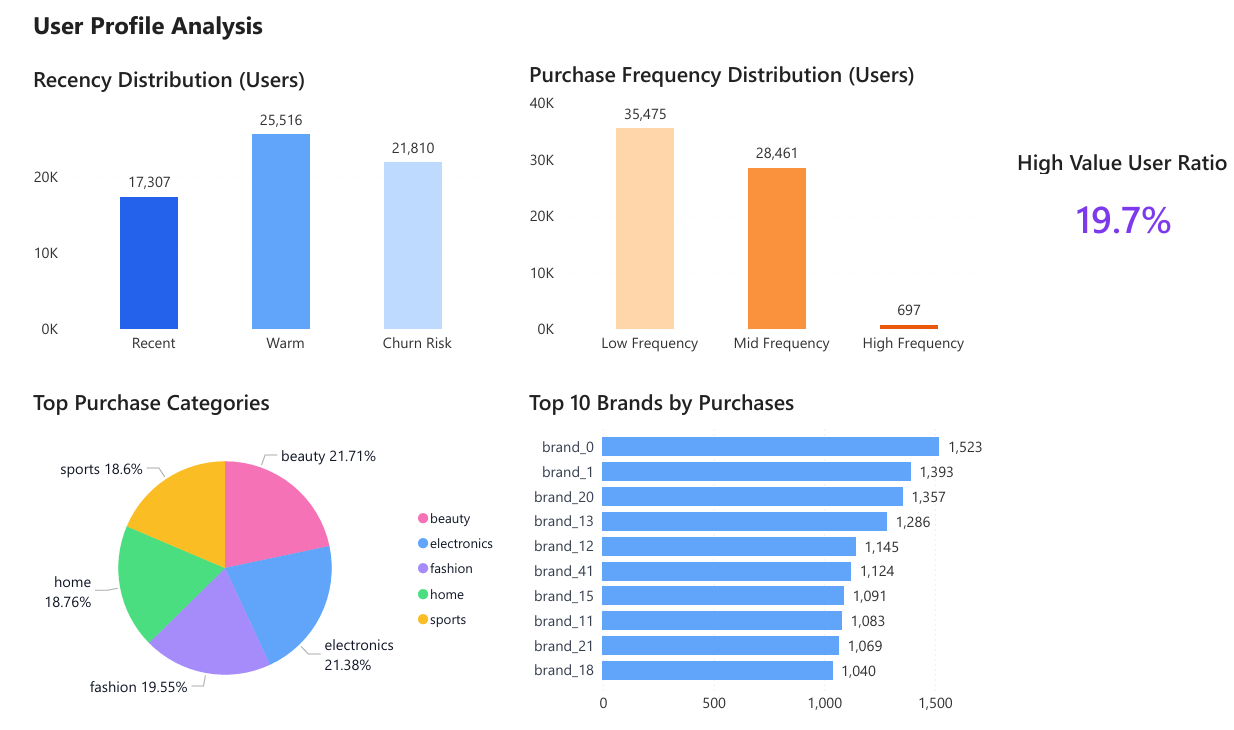

The page's visual inventory and layout, read from the dashboard file:
{"tool":"powerbi","page":{"name":"User Profile Analysis","canvas":[1280,720],"ordinal":3},"visuals":[{"type":"clusteredColumnChart","title":"Recency Distribution (Users)","fields":{"Y":["CountNonNull(gold_user_rfm_segment.user_id)"],"Category":["dim_recency.recency_segment"]},"box":[72,56,480,304],"z":0,"group":"g1"},{"type":"clusteredColumnChart","title":"Purchase Frequency Distribution (Users)","fields":{"Y":["CountNonNull(gold_user_rfm_segment.user_id)"],"Category":["dim_frequency.frequency_segment"]},"box":[568,56,480,304],"z":1000,"group":"g1"},{"type":"cardVisual","title":"High Value User Ratio","fields":{"Data":["gold_user_rfm_segment.High Value User %"]},"box":[1056,144,224,128],"z":2000,"group":"g1"},{"type":"pieChart","title":"Top Purchase Categories","fields":{"Category":["gold_top_category_distribution.category"],"Y":["gold_top_category_distribution.User Count"]},"box":[72,384,480,336],"z":3000,"group":"g1"},{"type":"clusteredBarChart","title":"Top 10 Brands by Purchases","fields":{"Category":["gold_top_brand_top10.brand"],"Y":["gold_top_brand_top10.Users (Top Brand)"]},"box":[568,384,488,336],"z":4000,"group":"g1"},{"type":"textbox","box":[72,0,264,48],"z":5000,"group":"g1"},{"type":"group","id":"g1","title":"Group 1","box":[72,0,1208,720],"z":5001}]}

Visuals, with their boxes on the page's 1280x720 design canvas (x1, y1, x2, y2). These are canvas units, not pixel positions in the 1234x730 screenshot, which may show the page scaled, cropped or inside an application window:
"Recency Distribution (Users)" clusteredColumnChart: region(72, 56, 552, 360)
"Purchase Frequency Distribution (Users)" clusteredColumnChart: region(568, 56, 1048, 360)
"High Value User Ratio" cardVisual: region(1056, 144, 1280, 272)
"Top Purchase Categories" pieChart: region(72, 384, 552, 720)
"Top 10 Brands by Purchases" clusteredBarChart: region(568, 384, 1056, 720)
textbox: region(72, 0, 336, 48)
"Group 1" group: region(72, 0, 1280, 720)
